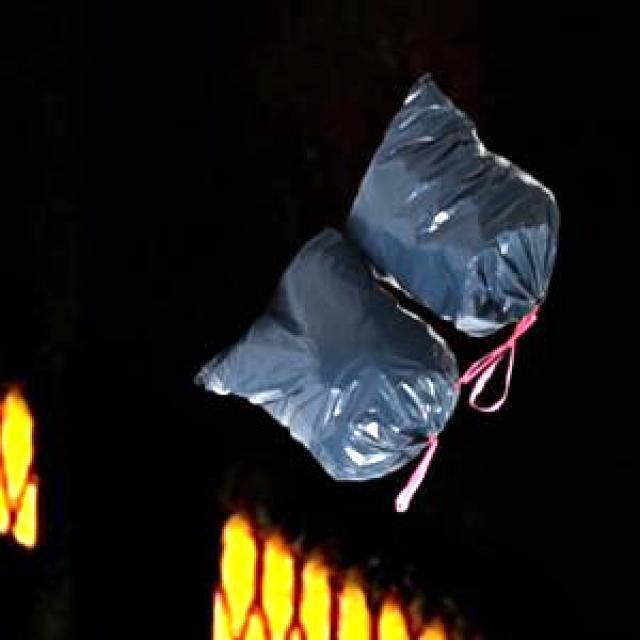Bolsa-de-nilon: (194, 74, 561, 512)
